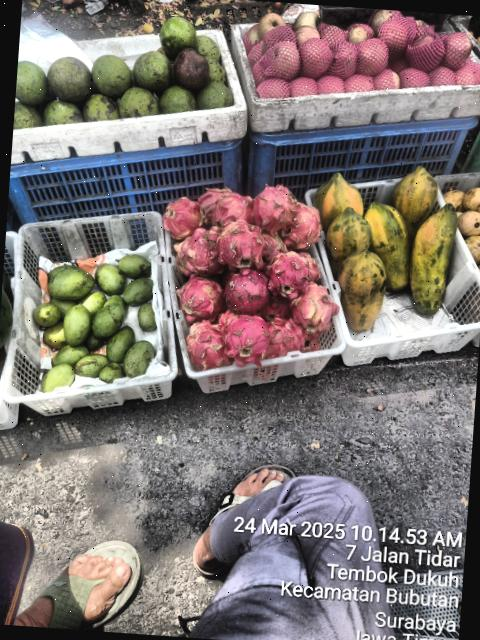buah-naga-belum-matang: (290, 280, 340, 332)
buah-naga-matang: (220, 264, 273, 316), (214, 219, 267, 269), (221, 314, 270, 368), (176, 274, 226, 321), (180, 318, 226, 367), (265, 248, 310, 298), (175, 228, 222, 274), (266, 316, 318, 357), (254, 182, 294, 230), (284, 198, 320, 250), (162, 196, 202, 236), (214, 192, 255, 227), (196, 187, 226, 222), (261, 296, 291, 319), (262, 232, 288, 258)
